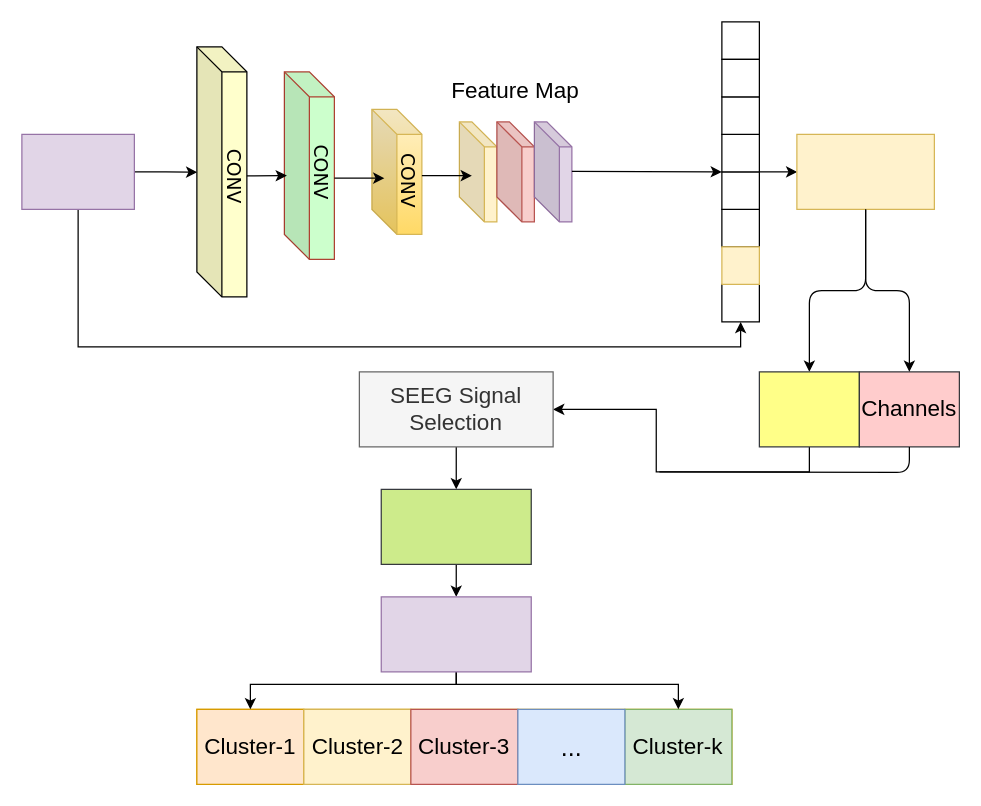
The diagram is 981 pixels wide and 806 high, and some of its shapes have lost their labels. The centre of each missing label's shape, as x and y in pixels:
"Localization" belongs at (x=865, y=171).
"SEEG Segment" belongs at (x=77, y=171).
"SEEG Signal Alignment" belongs at (x=455, y=526).
"SEEG Signal Clustering" belongs at (x=455, y=634).
"Time" belongs at (x=808, y=409).
